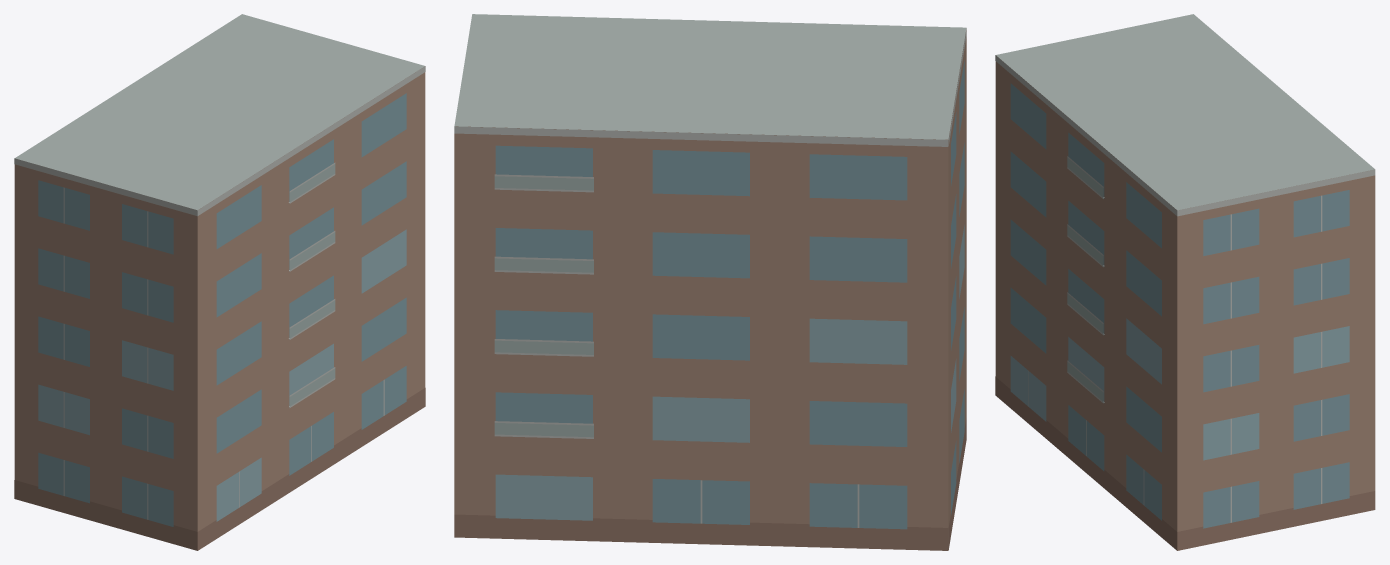
Rendered from survey-upis-32892256.glb.
3 views of the same model, side by side, from view 1: azimuth 30°, elevation 25°; view 2: azimuth 150°, elevation 25°; view 3: azimuth 270°, elevation 25° (orthographic). The views are drawn at different scales.
Visible parts, largest first — view 1: survey-upis-32892256.tmp; view 2: survey-upis-32892256.tmp; view 3: survey-upis-32892256.tmp.
Boxes of the visible parts, bbox=[...] form: survey-upis-32892256.tmp: bbox=[14, 14, 425, 550]; survey-upis-32892256.tmp: bbox=[454, 14, 966, 550]; survey-upis-32892256.tmp: bbox=[995, 14, 1375, 550].
Bounding box in the file's own units: 17.21 × 13.9 × 14.06.
